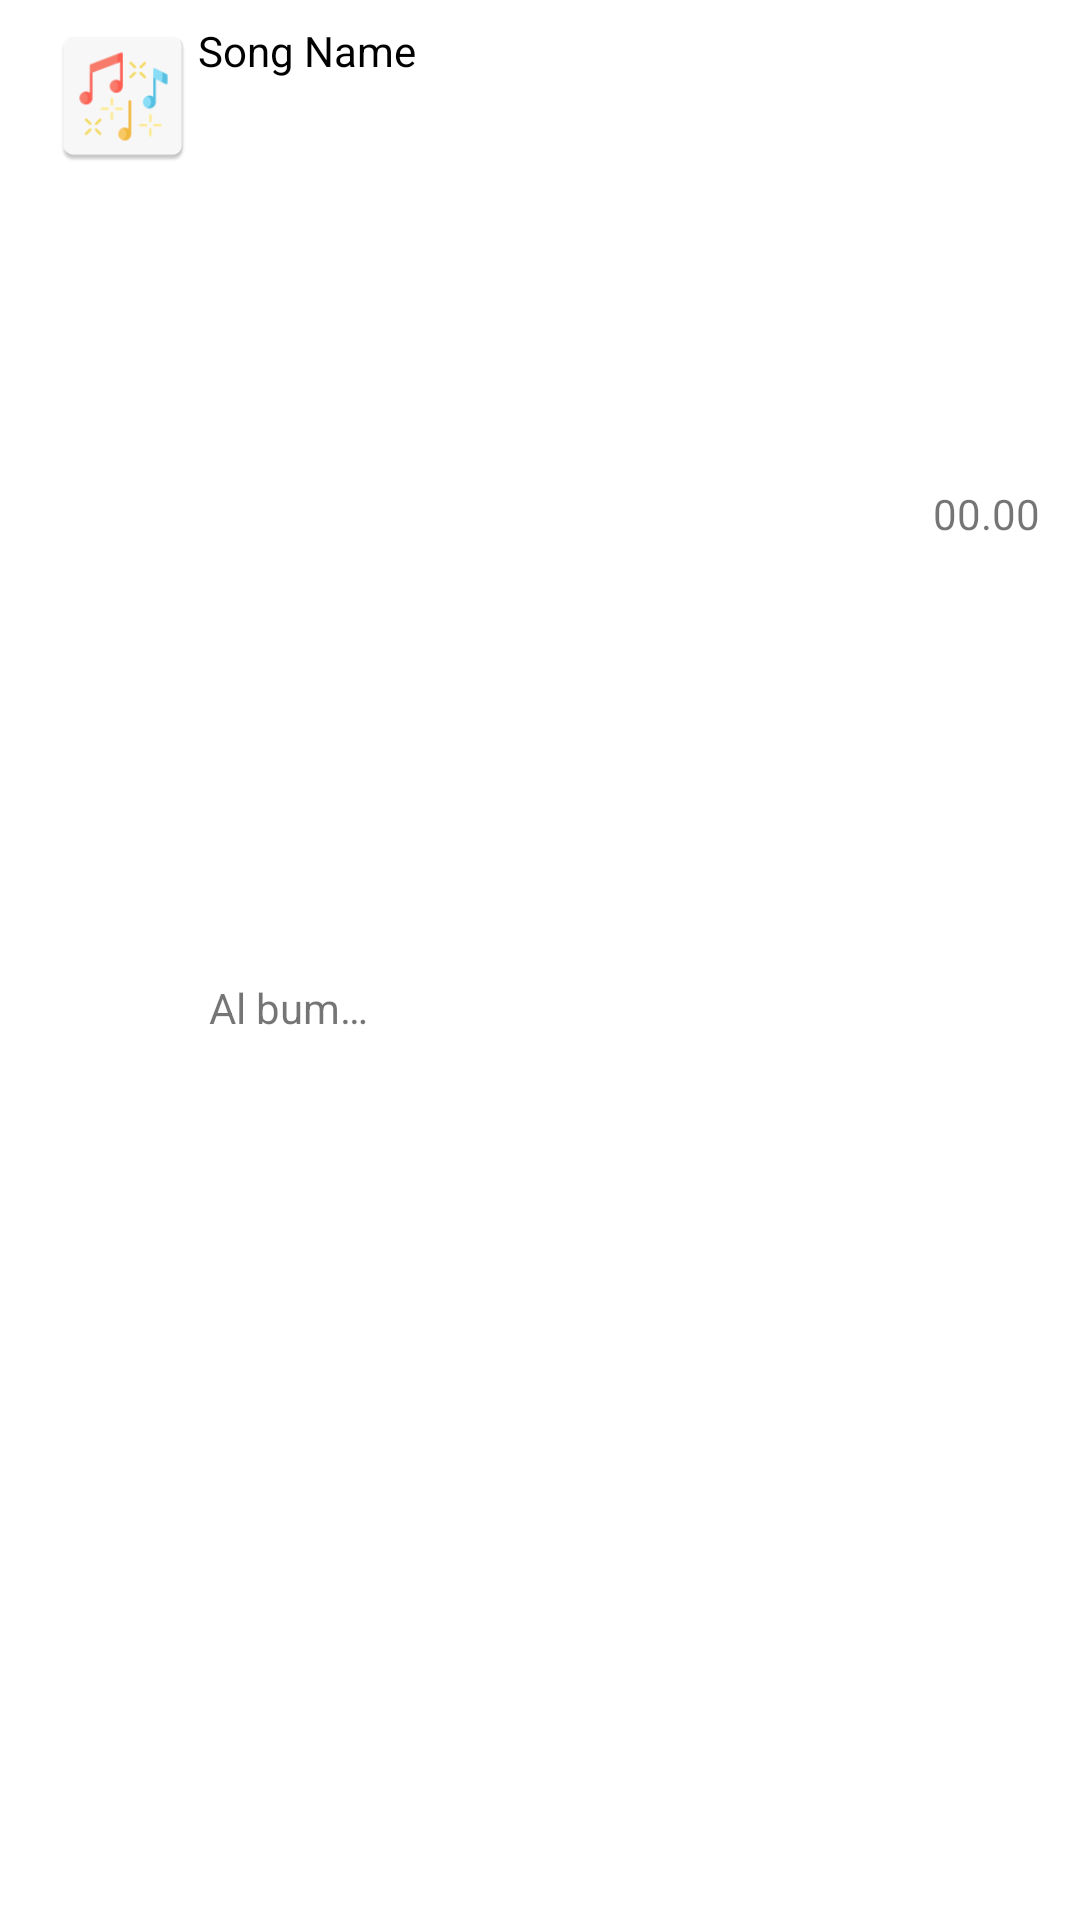

Icon click points for this 1080×1920 phone screenshot, format (x,y):
music player: (123,101)
